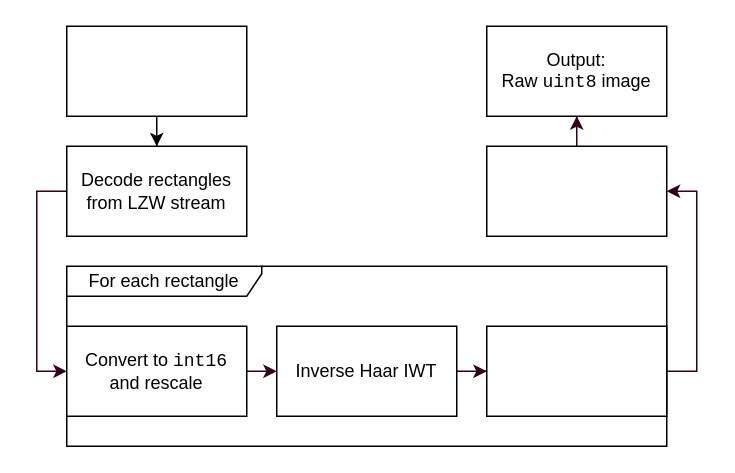
Image size: 735x473. Some labels were removed from this diagram. The box of each missing label's shape, as (x1, y1, x2, y2) in pixels:
Clamp-convert to uint8: (485, 325, 667, 416)
Input: LZW compressed stream: (65, 25, 247, 116)
Recombine rectangles: (485, 145, 667, 236)
